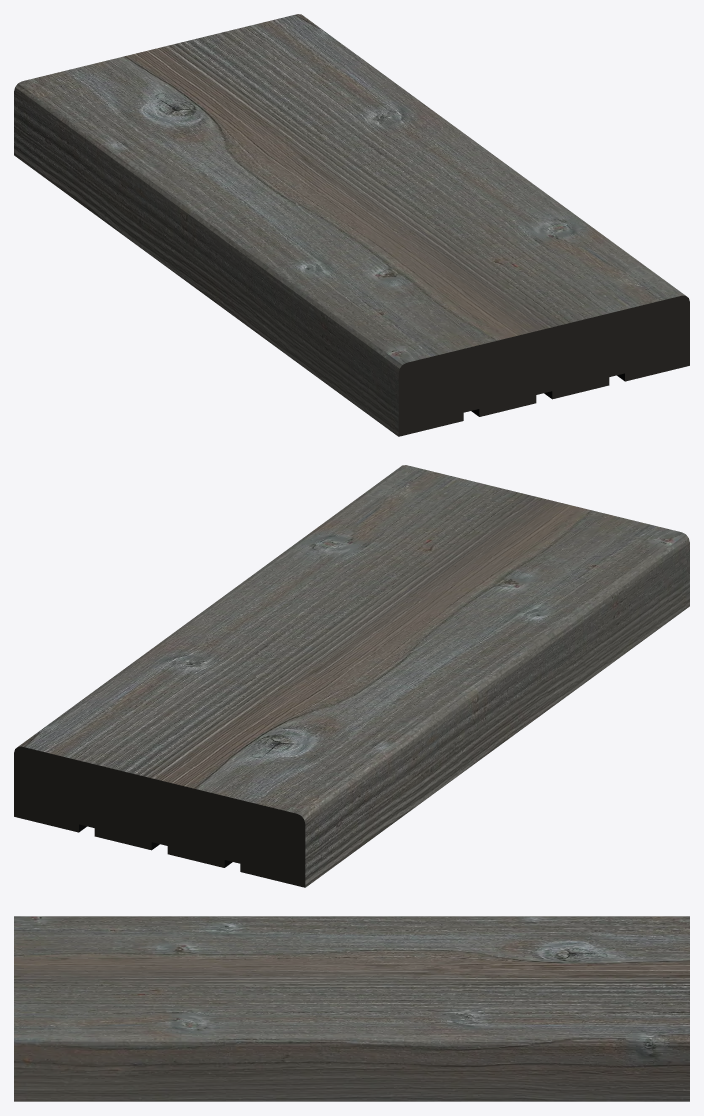
The model's file is spruce-terrace-rectangular-silver.glb.
The picture shows the model from 3 angles, top to bottom: view 1: azimuth 30°, elevation 25°; view 2: azimuth 150°, elevation 25°; view 3: azimuth 270°, elevation 25°; orthographic projection. The views are drawn at different scales.
Visible parts, largest first — view 1: Staciakampis; view 2: Staciakampis; view 3: Staciakampis.
Part boxes in pixels (x1,y1,x2,y2): Staciakampis: (14,14,689,436); Staciakampis: (14,465,689,887); Staciakampis: (14,916,689,1101).
Bounding box in the file's own units: 0.0733 × 0.0173 × 0.1675.
Materials: 3 (1 with a texture image).
